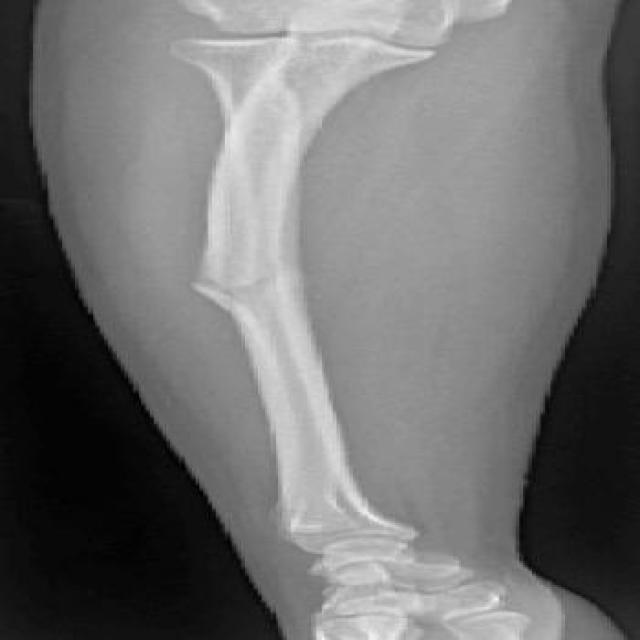fracture: (154, 268, 285, 317)
